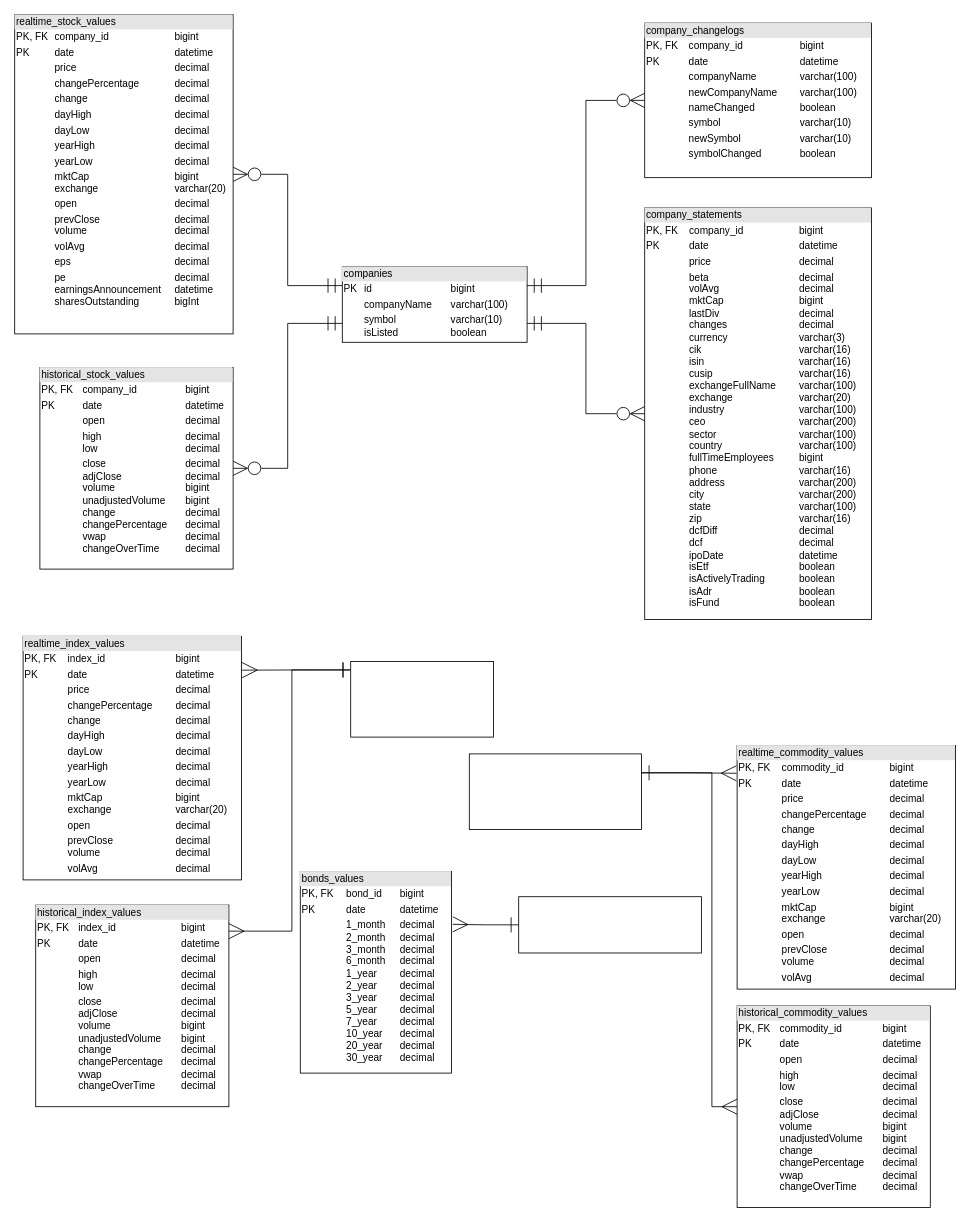
Some shapes in this 970 by 1222 pixel diagram are drawn without their labels. Here are the shapes that lost their labels. From the top down, the box of each, then its label:
(350, 661, 494, 737): indexes PK id bigint indexName varchar(30) symbol varchar(10)
(468, 753, 642, 830): commodities PK id bigint commodityName varchar(30) symbol varchar(10)
(518, 896, 701, 953): bonds PK bond_id bigint treasuryName varchar(30)
